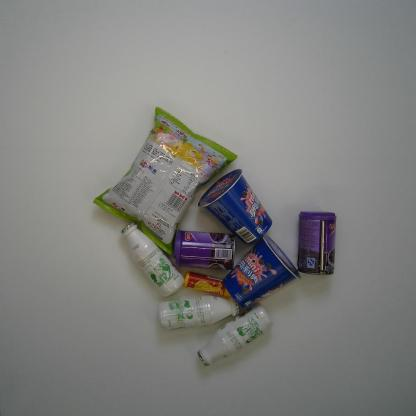Candy: (183, 270, 232, 300)
Canned Food: (296, 210, 337, 276), (172, 229, 236, 271)
Dessert: (222, 234, 302, 310), (197, 168, 274, 246)
Milk: (119, 221, 185, 298), (196, 302, 273, 368), (156, 295, 241, 330)
Puffed Food: (92, 107, 238, 256)
